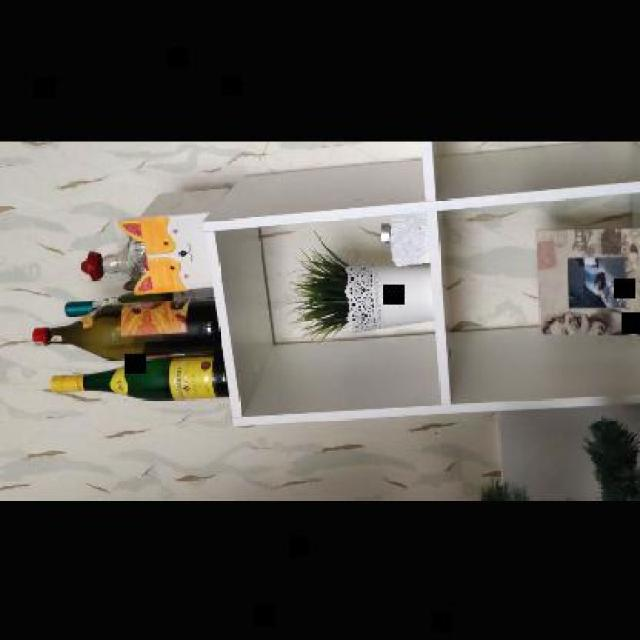unauthorized: (540, 310, 622, 336)
